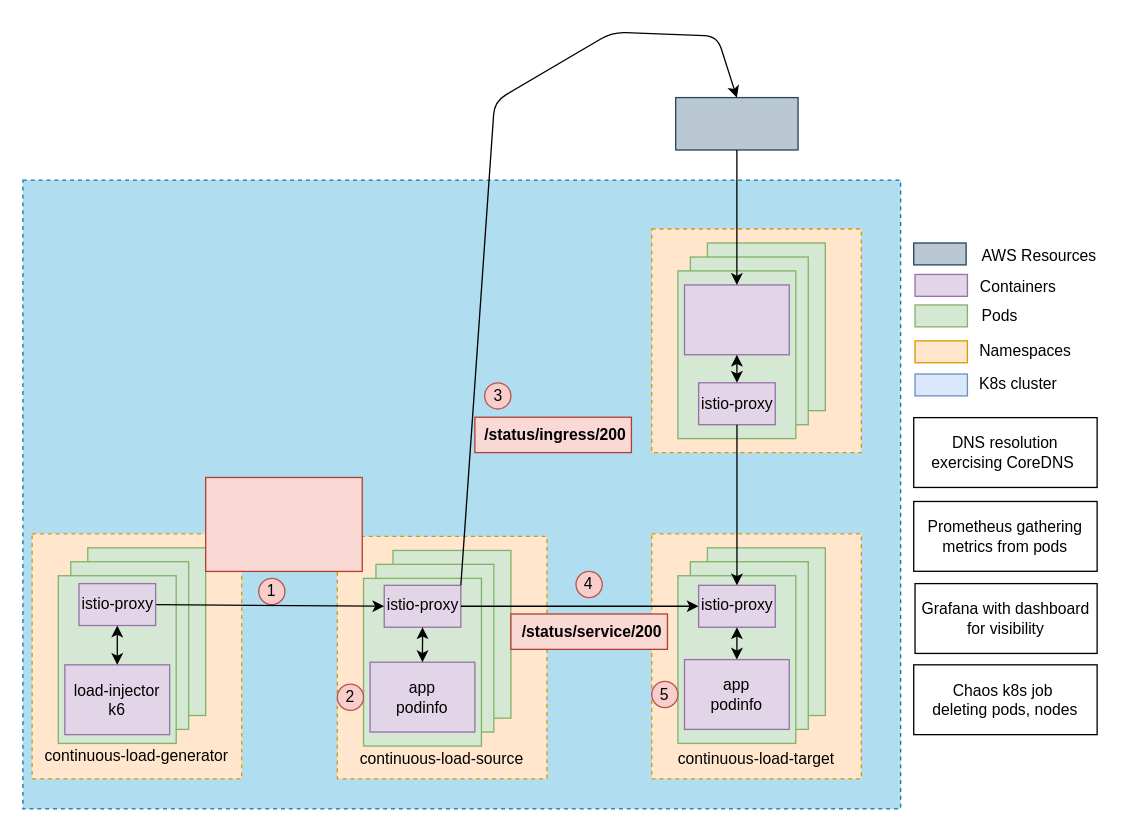
Image size: 1121x832. Some labels were removed from this diagram. The shapes that lost their labels are listed below. From the top down, each one's centre as x and y in pixels, then its label:
point 736,123: AWS NLB
point 736,319: nginx-ingress
point 283,523: concurrent requests sent: /forward/ingress /foward/service
